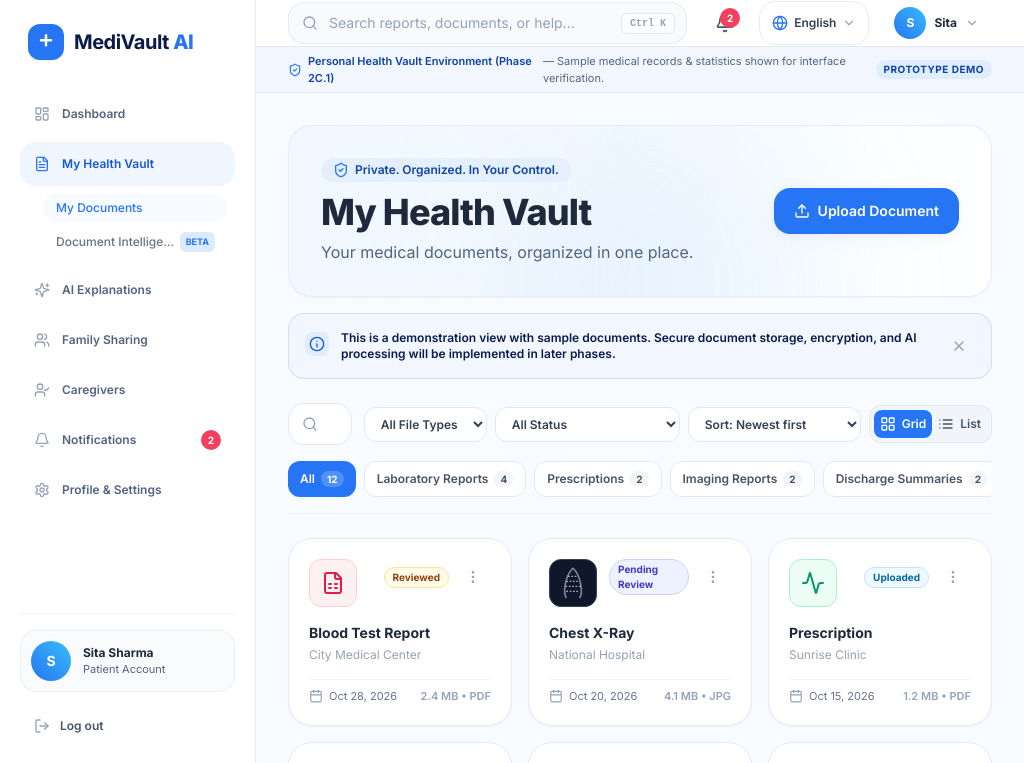
it: MediVault AI — Phase 2C.1 Personal Health Vault Frontend Suite › 14. allows deleting document with confirmation
The image size is (1024, 763).
Click the button named "Options for ".
click(473, 577)  # box [455,559,491,595]
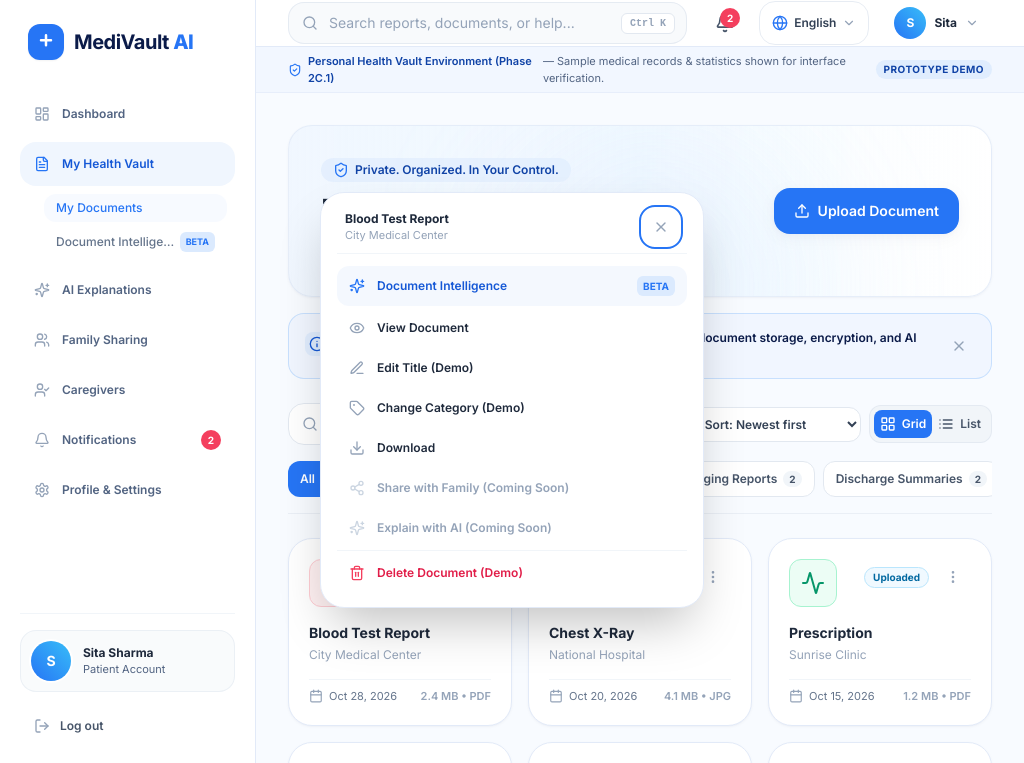
Click the button "Delete Document (Demo)".
click(512, 573)  # box [337,555,687,591]
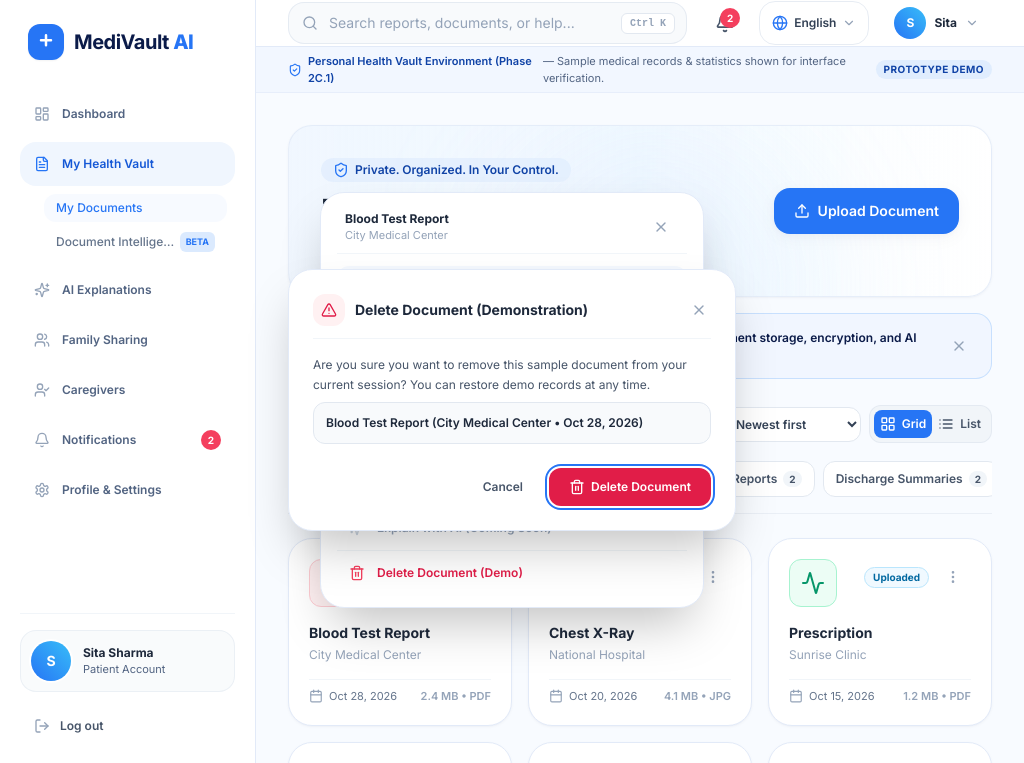
Expected: the heading "Delete Document (Demonstration)" is shown, [355,300,588,320]
Click the button "Delete Document".
click(630, 487)  # box [549,468,711,506]
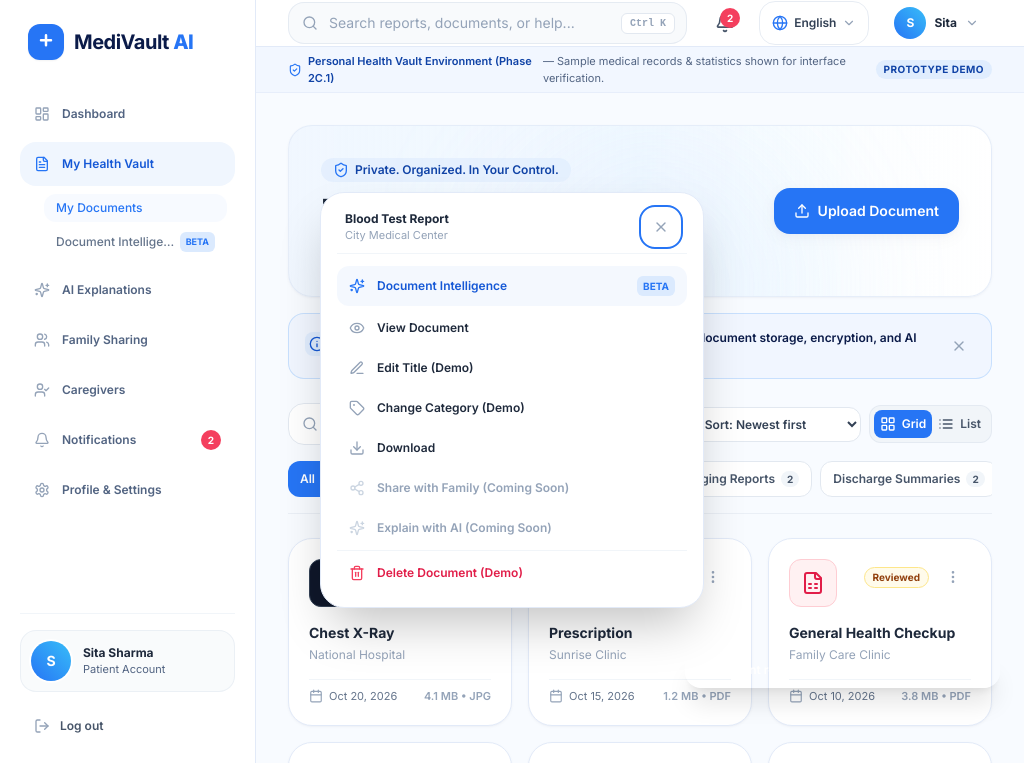
Expected: the button "All 11" is shown, [288,461,354,497]
